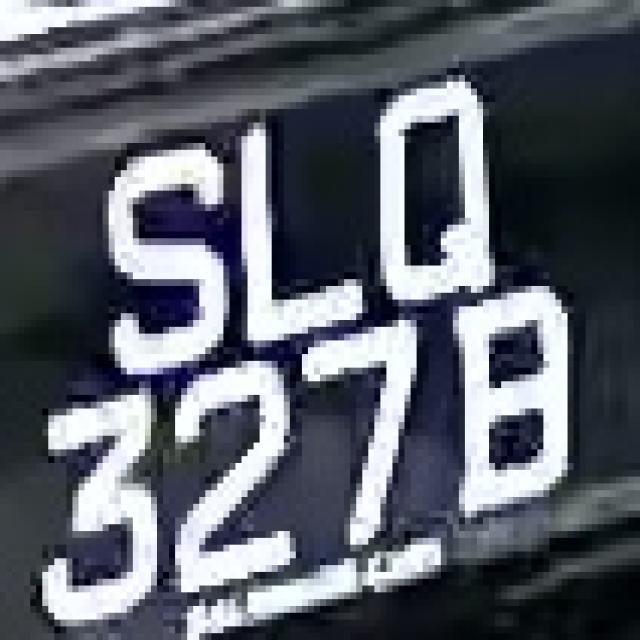2: (157, 361, 314, 606)
3: (24, 395, 169, 633)
7: (290, 334, 447, 552)
B: (434, 286, 592, 531)
L: (224, 95, 362, 348)
Q: (357, 75, 526, 306)
S: (72, 143, 230, 374)
